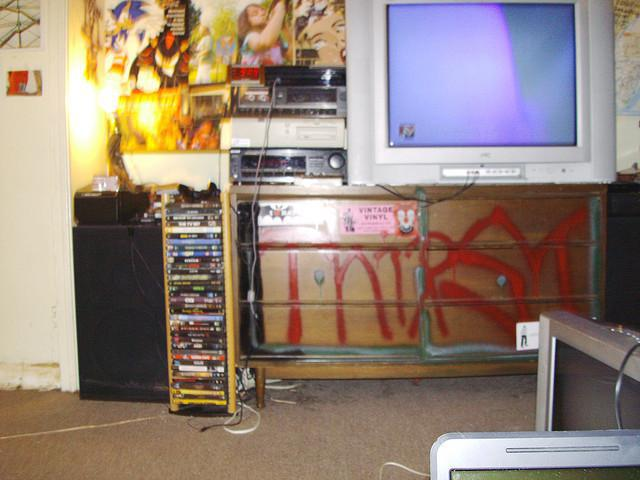tv: (339, 2, 622, 194), (515, 299, 639, 441), (416, 421, 637, 479)
